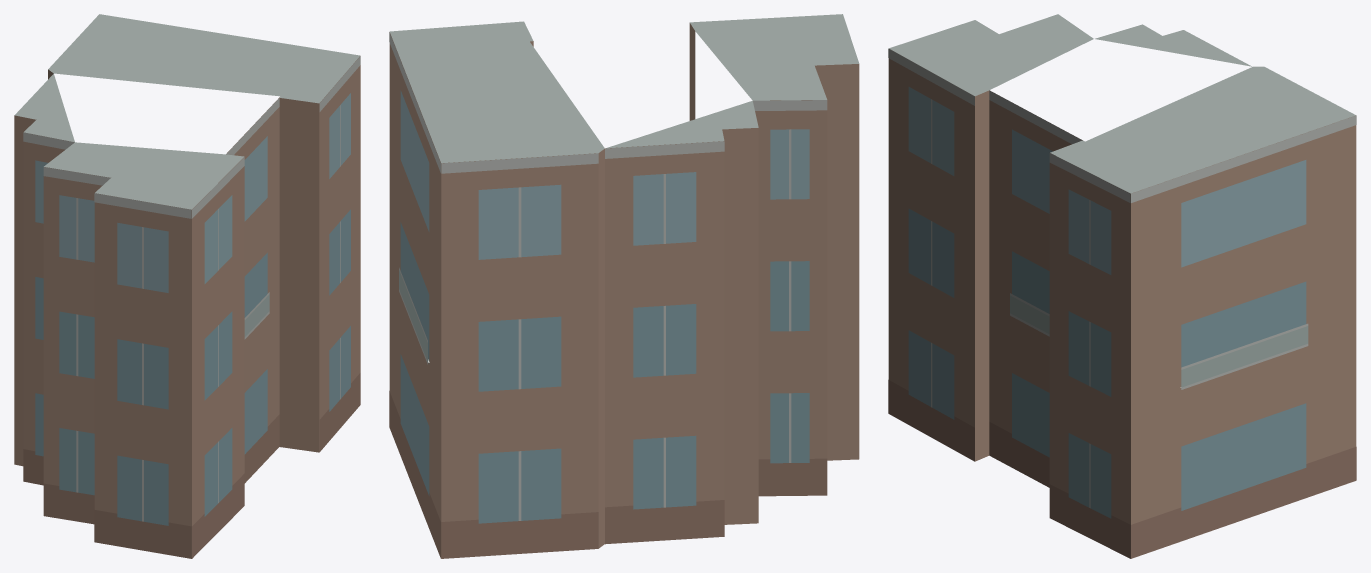
Rendered from survey-upis-32696424.glb.
3 views of the same model, side by side, from view 1: azimuth 30°, elevation 25°; view 2: azimuth 150°, elevation 25°; view 3: azimuth 270°, elevation 25° (orthographic). The views are drawn at different scales.
Visible parts, largest first — view 1: survey-upis-32696424.tmp; view 2: survey-upis-32696424.tmp; view 3: survey-upis-32696424.tmp.
Part boxes in pixels (bbox=[...]): survey-upis-32696424.tmp: bbox=[14, 14, 360, 558]; survey-upis-32696424.tmp: bbox=[389, 14, 859, 558]; survey-upis-32696424.tmp: bbox=[888, 14, 1356, 558].
Bounding box in the file's own units: 9.65 × 9.15 × 10.63.
